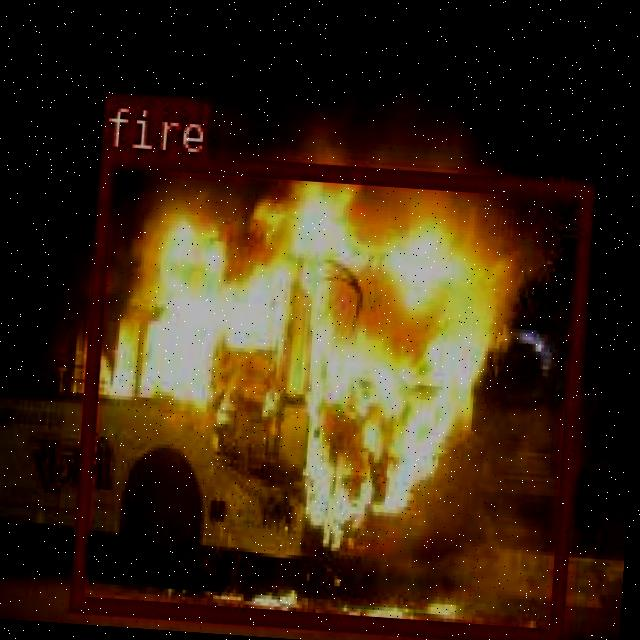fire: (68, 145, 590, 640)
